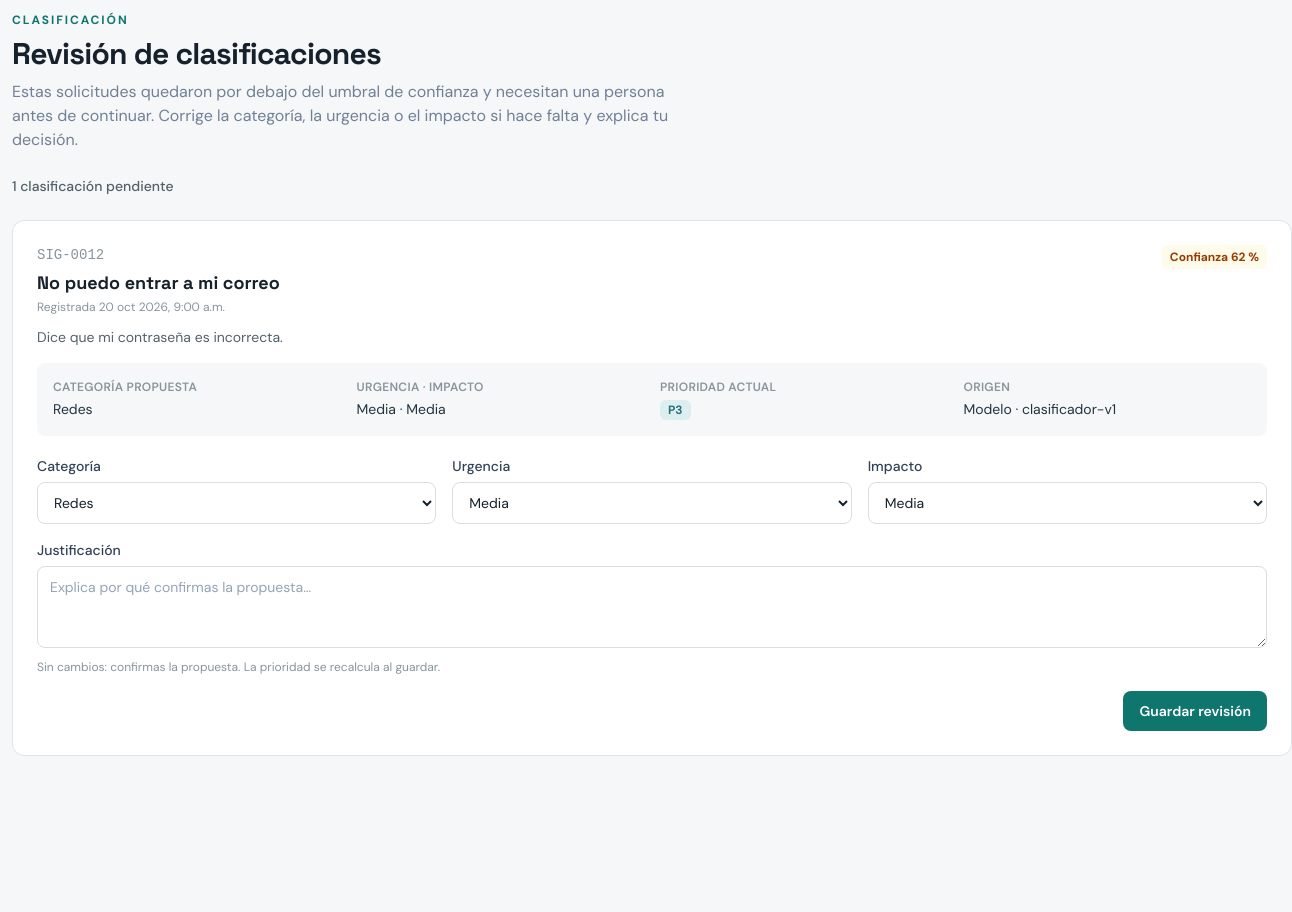
Test: RevisionPage: revisión de clasificaciones (S4-15, HU-02.2) › avisa qué cambió respecto de la propuesta
Expected: the text "Sin cambios" is shown, [37,659,244,675]
Step 1. Select "Alta" in the dropdown labelled "Urgencia" → [652, 503], box [452,482,852,524]
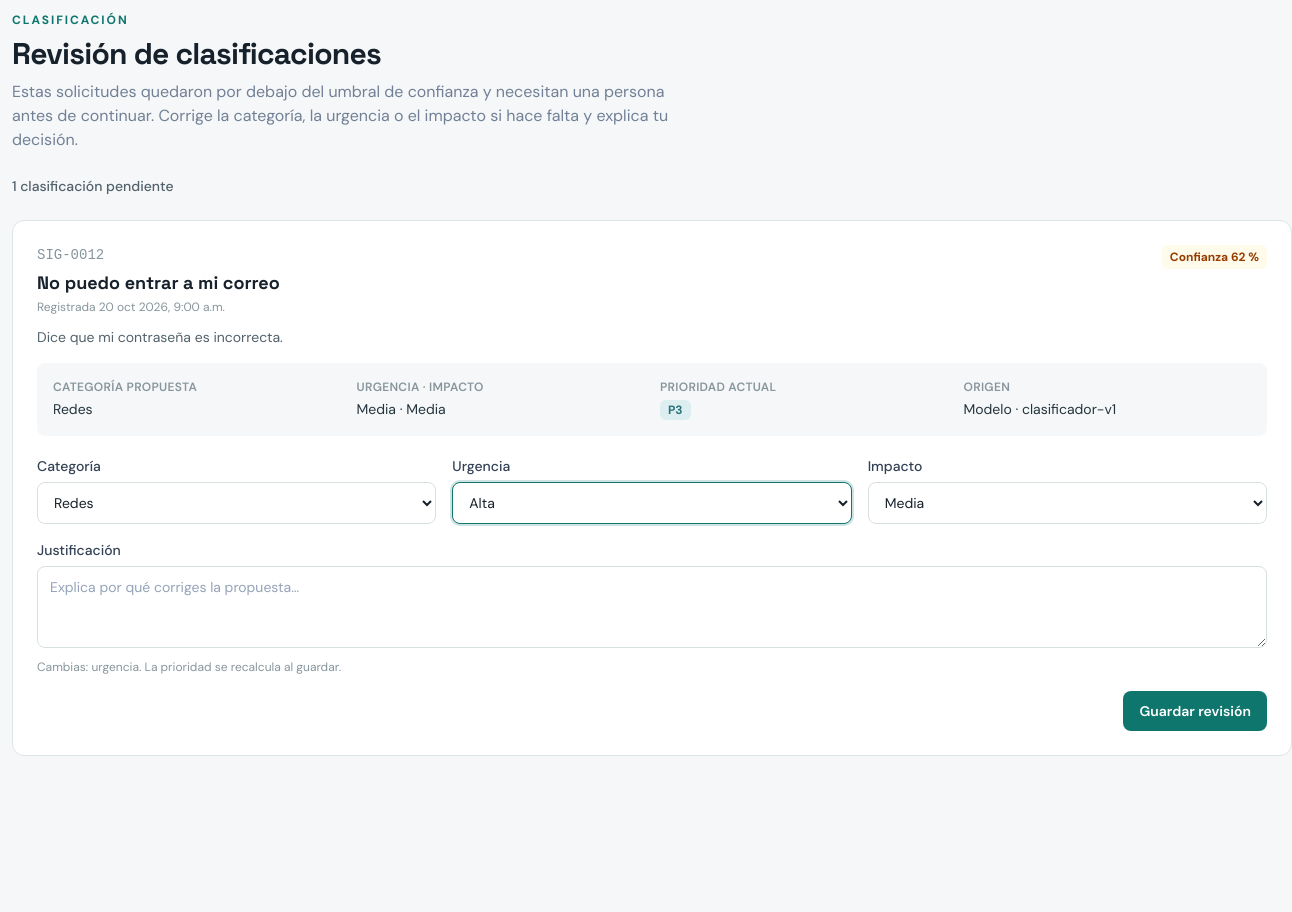
Expected: the text "Cambias: urgencia. La prioridad se recalcula al guardar." is shown, [37,659,341,675]
